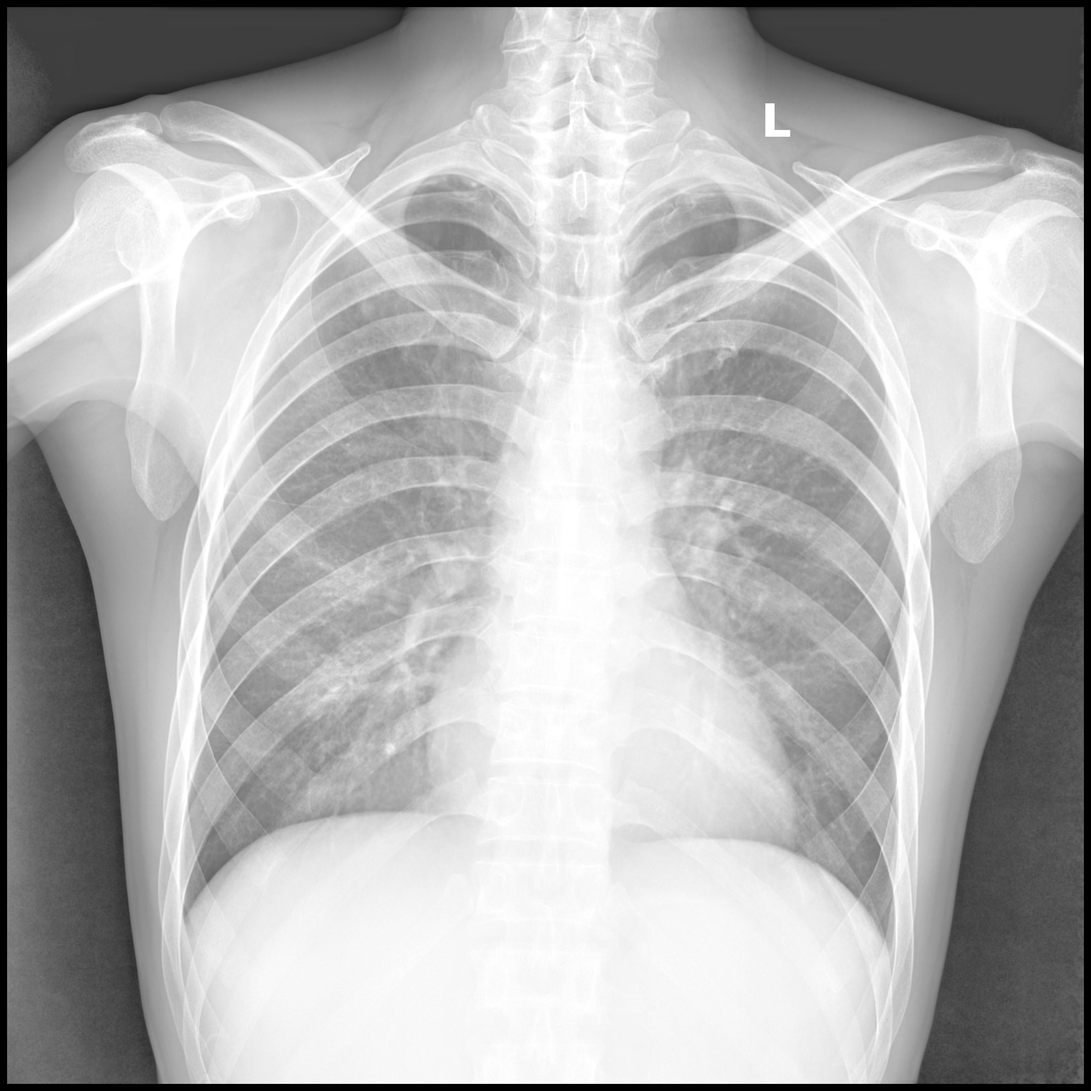Pleural thickening: (708, 177, 794, 217), (425, 170, 499, 195)
Pulmonary fibrosis: (425, 170, 499, 195)
